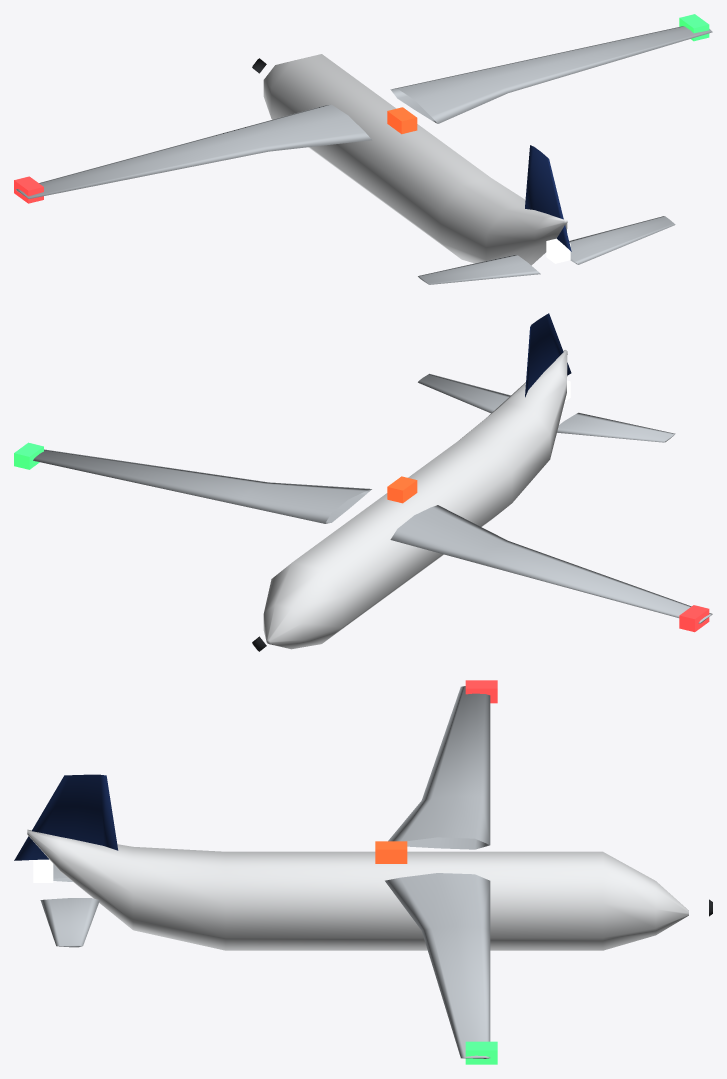
3 renders of one model, top to bottom at view 1: azimuth 30°, elevation 25°; view 2: azimuth 150°, elevation 25°; view 3: azimuth 270°, elevation 25°, orthographic. The views are drawn at different scales.
Parts seen in each view (by area): view 1: c172_lod2_white, c172_lod2_wing, c172_lod2_blue, c172_lod2_beacon, c172_lod2_nav_red, c172_lod2_nav_green, c172_lod2_nav_white; view 2: c172_lod2_white, c172_lod2_wing, c172_lod2_blue, c172_lod2_beacon, c172_lod2_nav_red, c172_lod2_nav_green; view 3: c172_lod2_white, c172_lod2_wing, c172_lod2_blue, c172_lod2_beacon, c172_lod2_nav_green.
Boxes of the visible parts, <box> form: c172_lod2_white: <box>263,54,567,265</box>; c172_lod2_wing: <box>16,26,712,284</box>; c172_lod2_blue: <box>525,145,571,251</box>; c172_lod2_beacon: <box>387,107,417,134</box>; c172_lod2_nav_red: <box>14,176,43,203</box>; c172_lod2_nav_green: <box>679,14,709,41</box>; c172_lod2_nav_white: <box>546,238,570,263</box>; c172_lod2_white: <box>263,350,567,649</box>; c172_lod2_wing: <box>33,373,712,623</box>; c172_lod2_blue: <box>525,313,571,397</box>; c172_lod2_beacon: <box>387,476,417,503</box>; c172_lod2_nav_red: <box>679,605,709,632</box>; c172_lod2_nav_green: <box>14,442,43,469</box>; c172_lod2_white: <box>27,829,688,950</box>; c172_lod2_wing: <box>40,686,490,1058</box>; c172_lod2_blue: <box>14,774,118,860</box>; c172_lod2_beacon: <box>375,841,407,863</box>; c172_lod2_nav_green: <box>465,1041,497,1064</box>.
Bounding box in the file's own units: 11 × 2.31 × 8.75.
